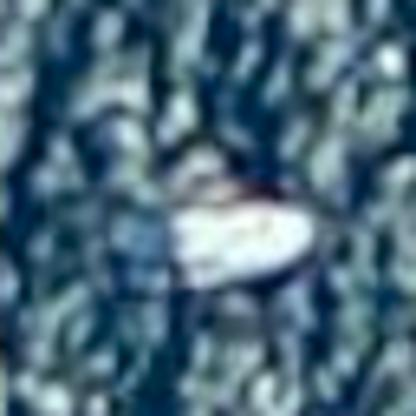ship: (151, 190, 332, 294)
